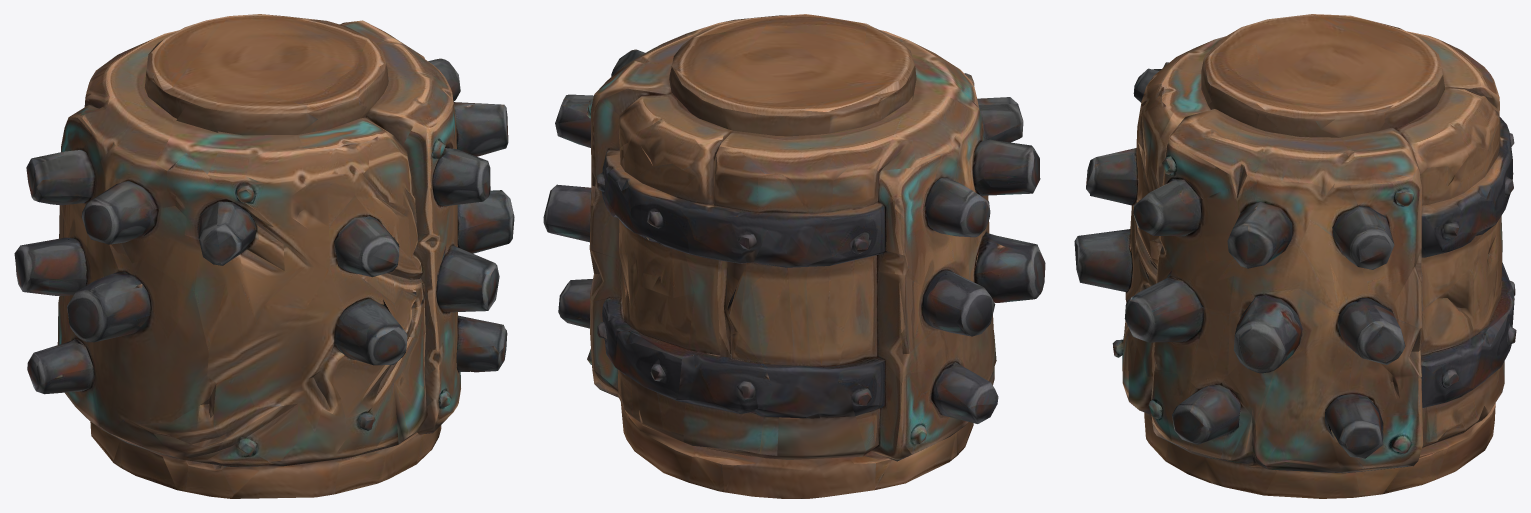
The model's file is 07_spike_drum.glb.
3 views of the same model, side by side, from view 1: azimuth 30°, elevation 25°; view 2: azimuth 150°, elevation 25°; view 3: azimuth 270°, elevation 25° (orthographic).
Visible parts, largest first — view 1: output_unwrapped; view 2: output_unwrapped; view 3: output_unwrapped.
Part boxes in pixels (x1=…): output_unwrapped: x1=14, y1=14, x2=514, y2=498; output_unwrapped: x1=543, y1=14, x2=1045, y2=498; output_unwrapped: x1=1074, y1=14, x2=1516, y2=498.
Bounding box in the file's own units: 1.9 × 1.51 × 1.66.
Materials: 1 (1 with a texture image).
